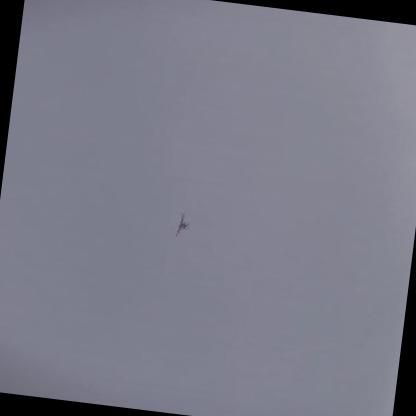plane: (174, 210, 191, 239)
